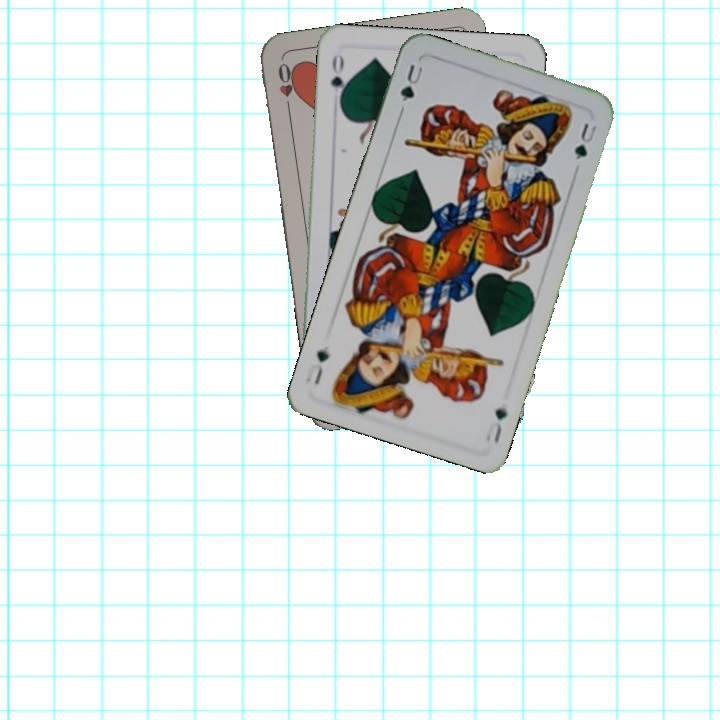GO: (326, 51, 349, 108)
GU: (396, 60, 427, 104), (484, 403, 510, 445)
HO: (274, 59, 298, 117)
